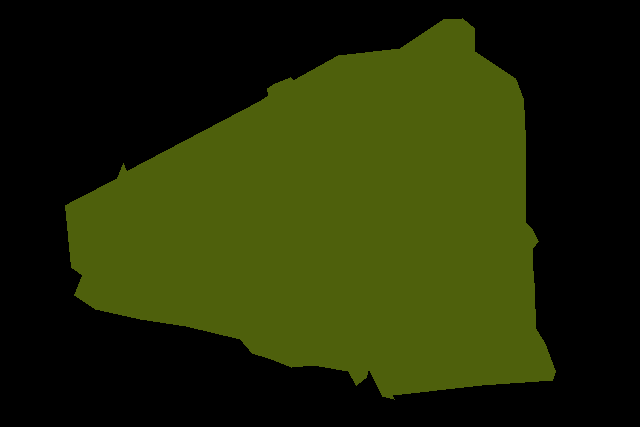Train: (65, 18, 556, 399)
